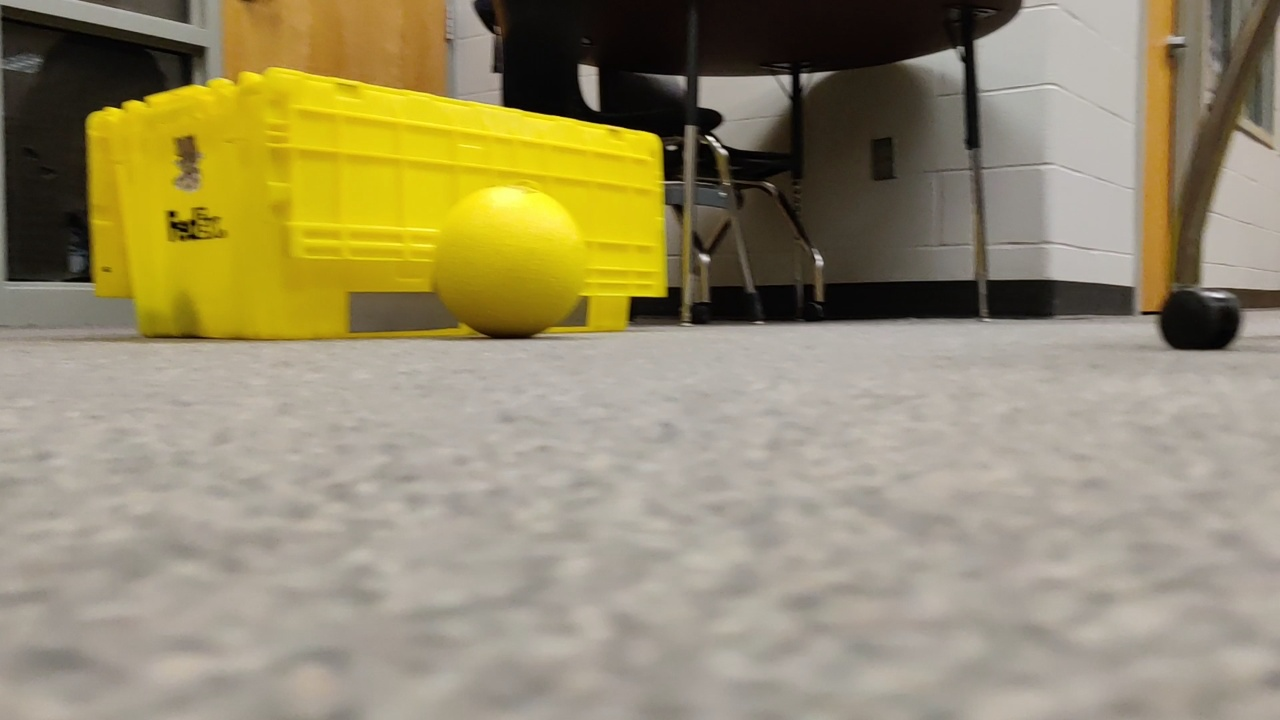Ball: (439, 186, 587, 338)
